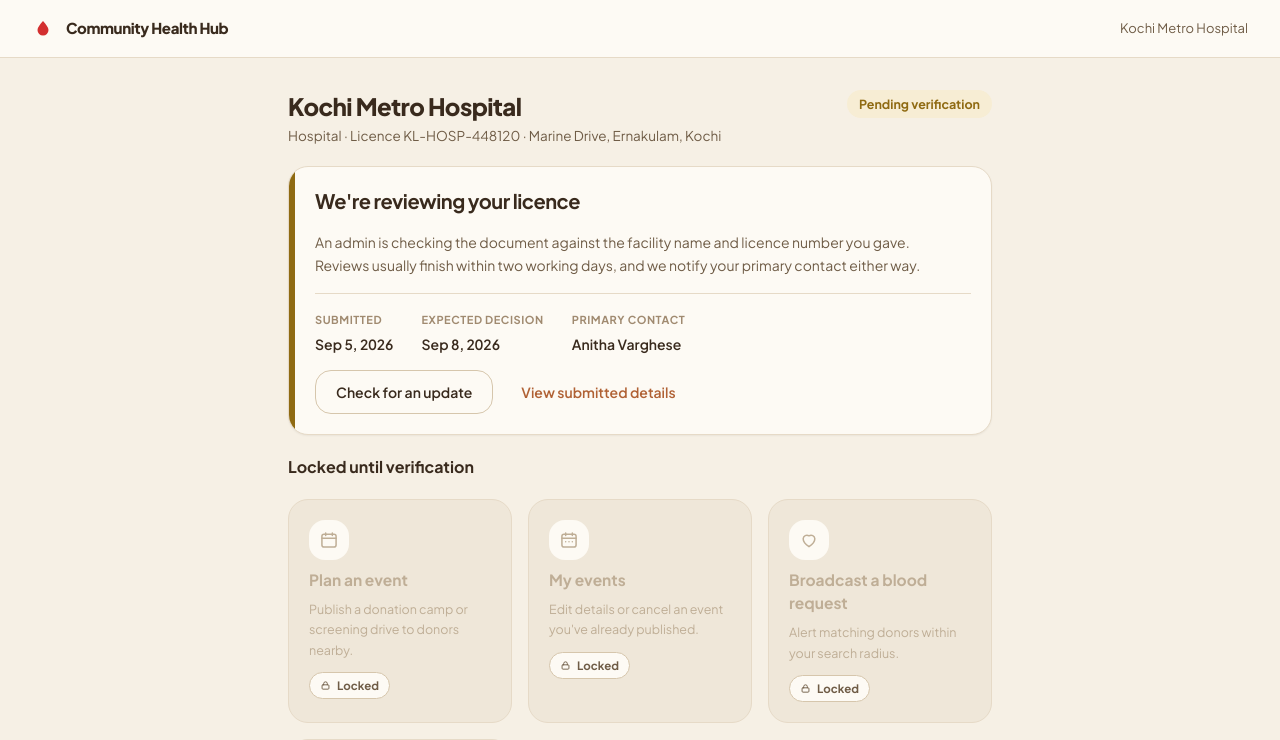
Test: FacilityDashboardPage › shows the restriction explanation when a locked action is attempted (AC3)
Click the button "Plan an event" at (400, 611), box [288,499,512,723]
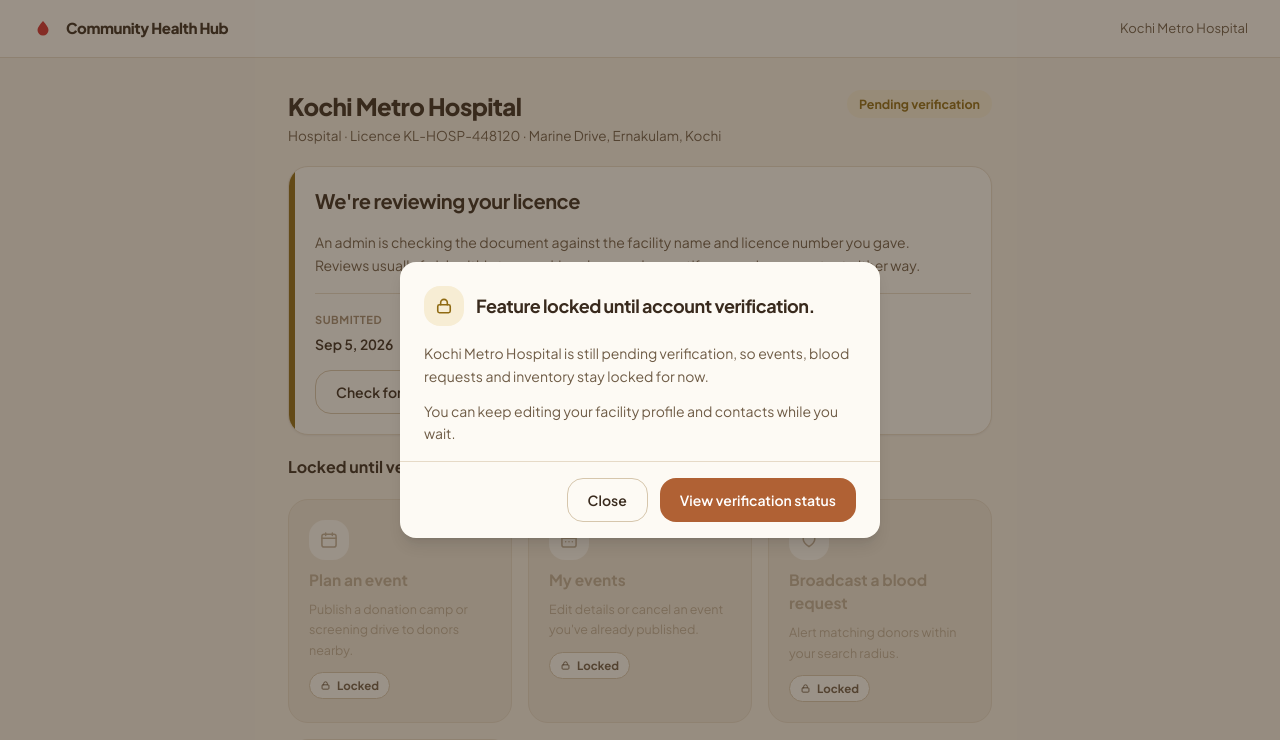
Expected: the heading "Feature locked until account verification." is shown, [476,292,815,320]
Expected: the text "still pending verification, so events, blood requests and inventory stay locked" is shown, [424,344,849,385]
